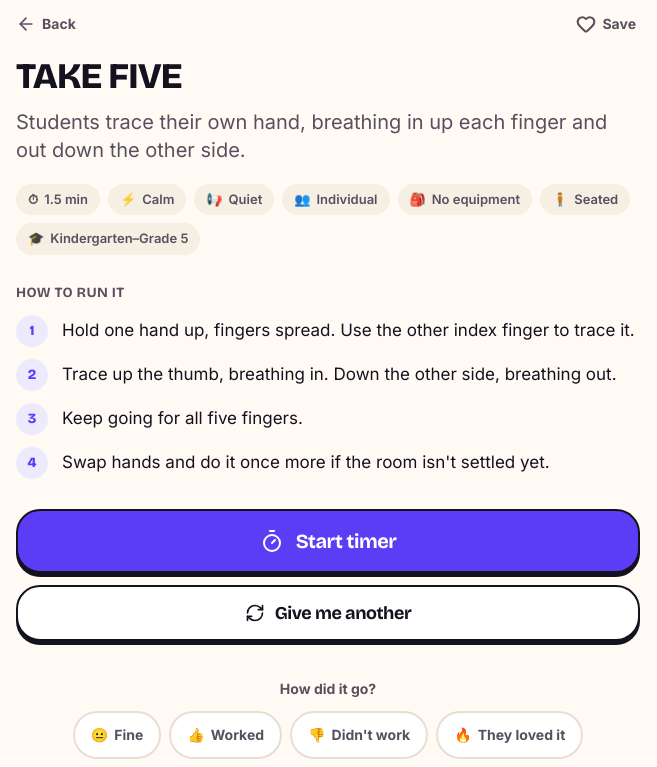
Test: ActivityScreen feedback › brings the options back if the acknowledgement itself is tapped, for a misfire
Click the button "😐 Fine" at (117, 735), box [73,711,161,759]
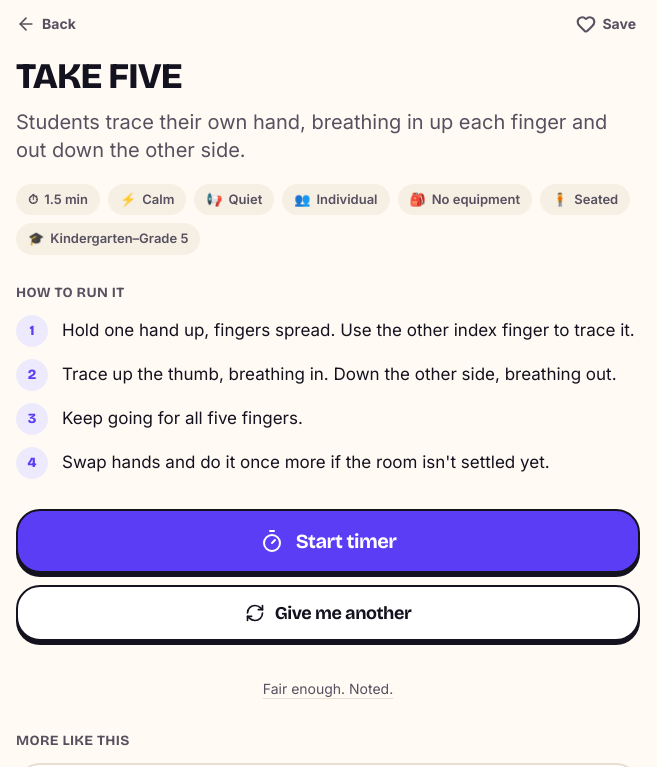
Now the button "Fair enough. Noted." is shown
Click the button "Fair enough. Noted." at (328, 689), box [263,679,393,699]
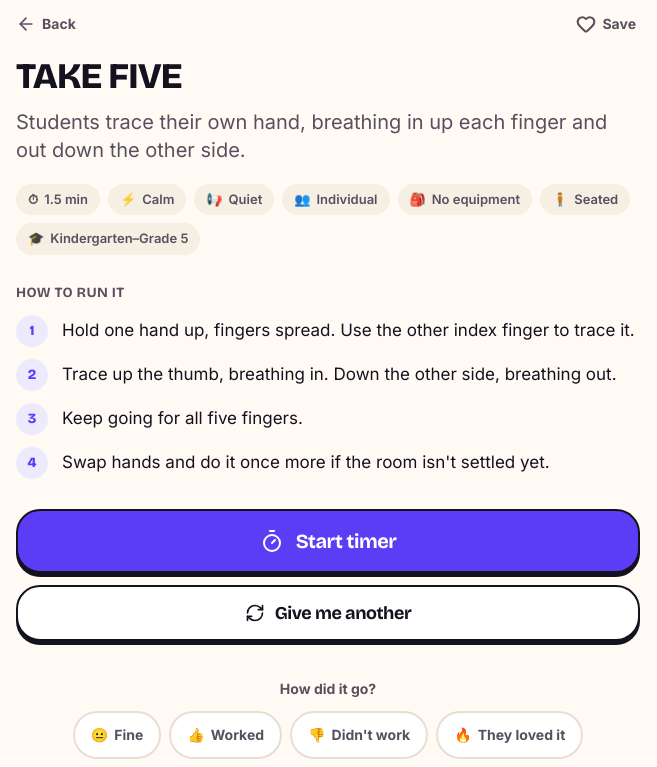
Now the button "😐 Fine" is shown, box [73,711,161,759]
Now the button "Fair enough. Noted." is gone
